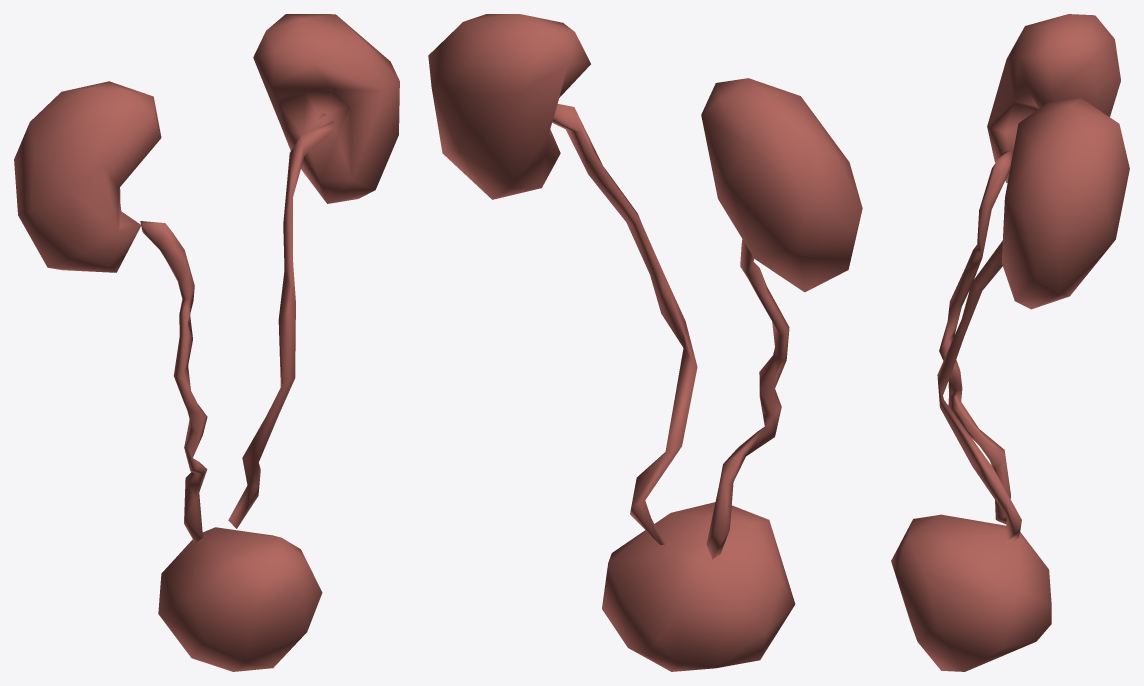
Rendered from icrp_adult_male.urinary.LOD3.glb.
3 views of the same model, side by side, from view 1: azimuth 30°, elevation 25°; view 2: azimuth 150°, elevation 25°; view 3: azimuth 270°, elevation 25° (orthographic). The views are drawn at different scales.
Visible parts, largest first — view 1: ICRP.ADULT.MALE.URINARY.KIDNEY_CORTEX.R, ICRP.ADULT.MALE.URINARY.KIDNEY_CORTEX.L, ICRP.ADULT.MALE.URINARY.URINARY_BLADDER_WALL, ICRP.ADULT.MALE.URINARY.URETER.L, ICRP.ADULT.MALE.URINARY.URETER.R; view 2: ICRP.ADULT.MALE.URINARY.URINARY_BLADDER_WALL, ICRP.ADULT.MALE.URINARY.KIDNEY_CORTEX.R, ICRP.ADULT.MALE.URINARY.KIDNEY_CORTEX.L, ICRP.ADULT.MALE.URINARY.URETER.L, ICRP.ADULT.MALE.URINARY.URETER.R; view 3: ICRP.ADULT.MALE.URINARY.KIDNEY_CORTEX.L, ICRP.ADULT.MALE.URINARY.URINARY_BLADDER_WALL, ICRP.ADULT.MALE.URINARY.KIDNEY_CORTEX.R, ICRP.ADULT.MALE.URINARY.URETER.R, ICRP.ADULT.MALE.URINARY.URETER.L.
Part boxes in pixels (x1,y1,x2,y2): ICRP.ADULT.MALE.URINARY.KIDNEY_CORTEX.R: [14, 81, 161, 272]; ICRP.ADULT.MALE.URINARY.KIDNEY_CORTEX.L: [253, 14, 399, 203]; ICRP.ADULT.MALE.URINARY.URINARY_BLADDER_WALL: [158, 527, 322, 671]; ICRP.ADULT.MALE.URINARY.URETER.L: [228, 120, 334, 528]; ICRP.ADULT.MALE.URINARY.URETER.R: [140, 221, 207, 542]; ICRP.ADULT.MALE.URINARY.URINARY_BLADDER_WALL: [602, 502, 795, 671]; ICRP.ADULT.MALE.URINARY.KIDNEY_CORTEX.R: [701, 78, 862, 292]; ICRP.ADULT.MALE.URINARY.KIDNEY_CORTEX.L: [428, 14, 590, 199]; ICRP.ADULT.MALE.URINARY.URETER.L: [552, 104, 697, 544]; ICRP.ADULT.MALE.URINARY.URETER.R: [706, 239, 789, 559]; ICRP.ADULT.MALE.URINARY.KIDNEY_CORTEX.L: [1001, 98, 1129, 309]; ICRP.ADULT.MALE.URINARY.URINARY_BLADDER_WALL: [891, 514, 1051, 671]; ICRP.ADULT.MALE.URINARY.KIDNEY_CORTEX.R: [987, 14, 1120, 182]; ICRP.ADULT.MALE.URINARY.URETER.R: [939, 150, 1012, 524]; ICRP.ADULT.MALE.URINARY.URETER.L: [937, 241, 1021, 543].
Size of the model in its own units: 0.2206 by 0.3285 by 0.1164.
